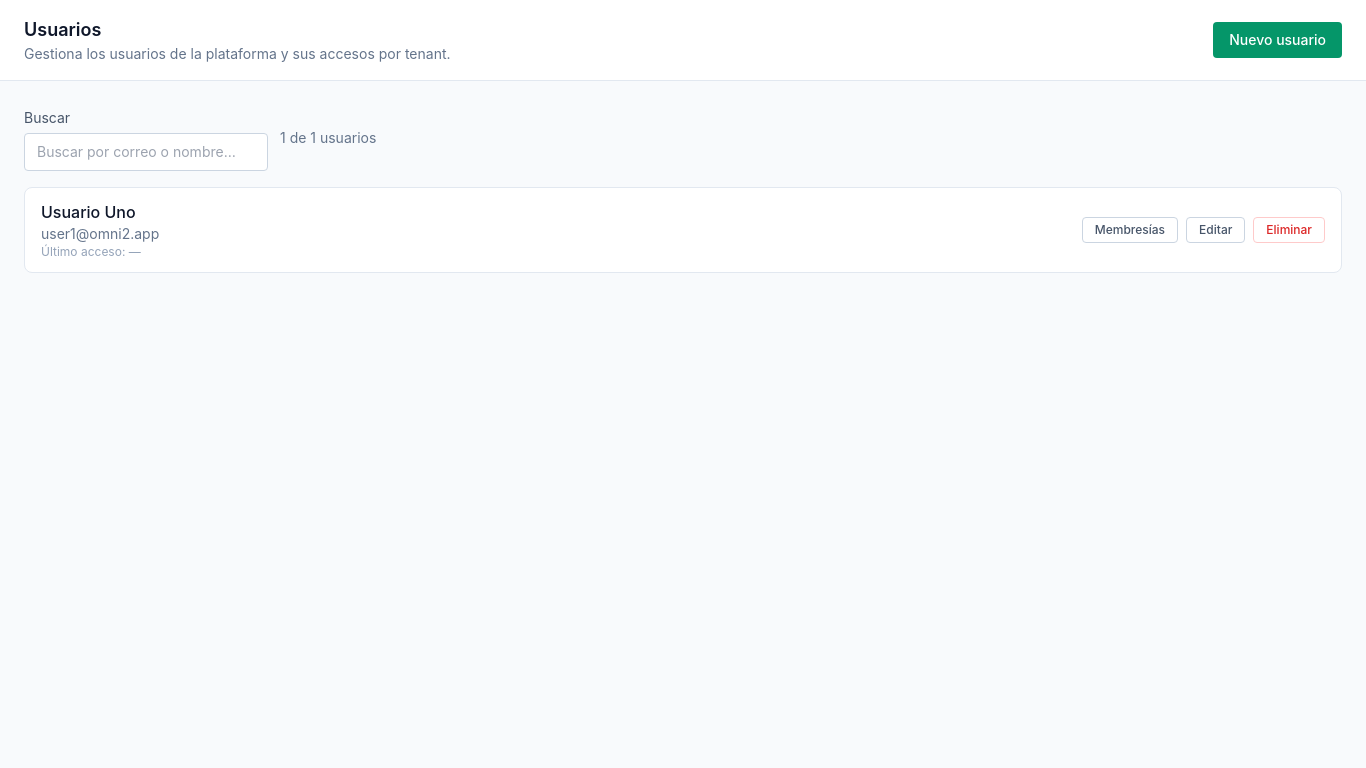
Test case: UsersSection › edita un usuario existente precargando el formulario
This screenshot has width=1366, height=768.
Check: the text "Usuario Uno" is shown, box [41,200,136,224]
Click the button "Editar" at (1216,230), box [1186,217,1245,243]
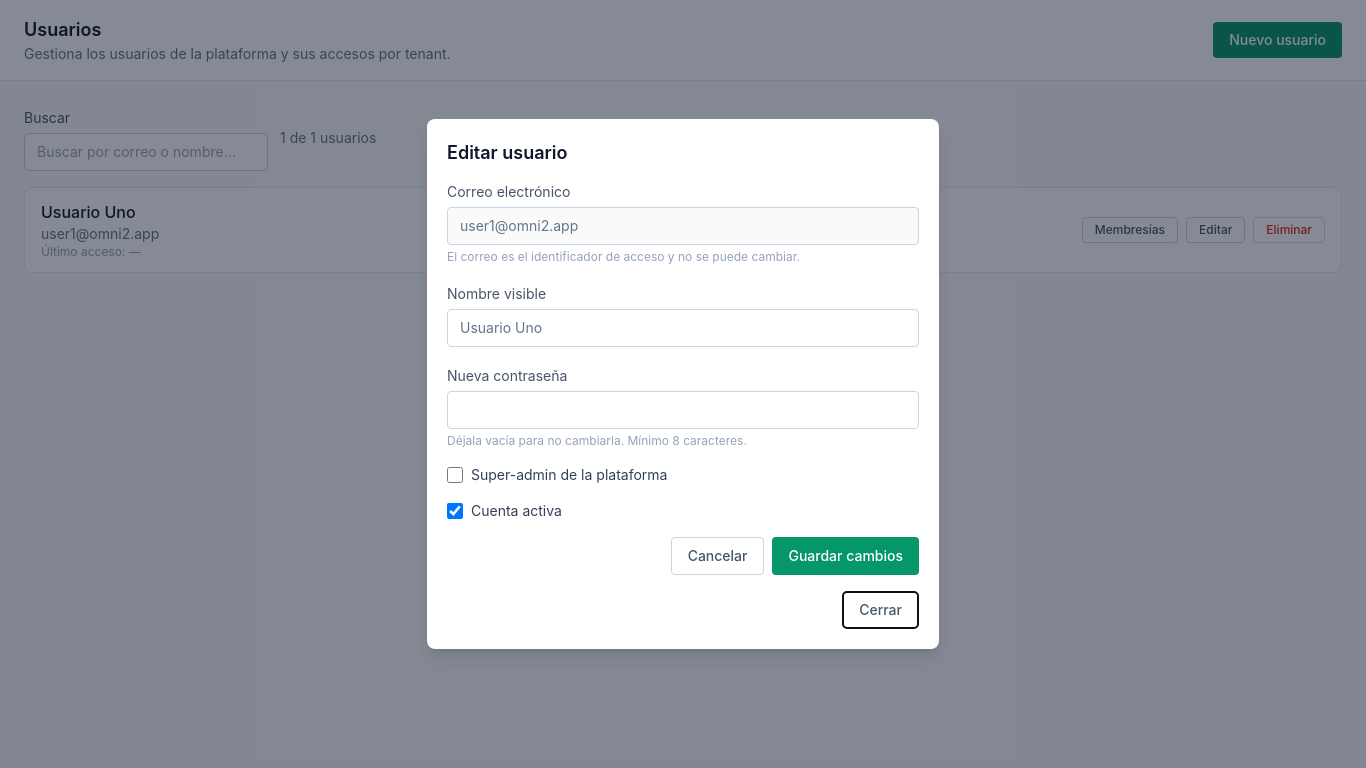
Check: the heading "Editar usuario" is shown, box [447,142,568,163]
Check: the field labelled "Correo electrónico" is disabled, box [447,207,919,245]
Replace the text in the field labelled "Nombre visible" with "Renombrado" at (683,328), box [447,309,919,347]
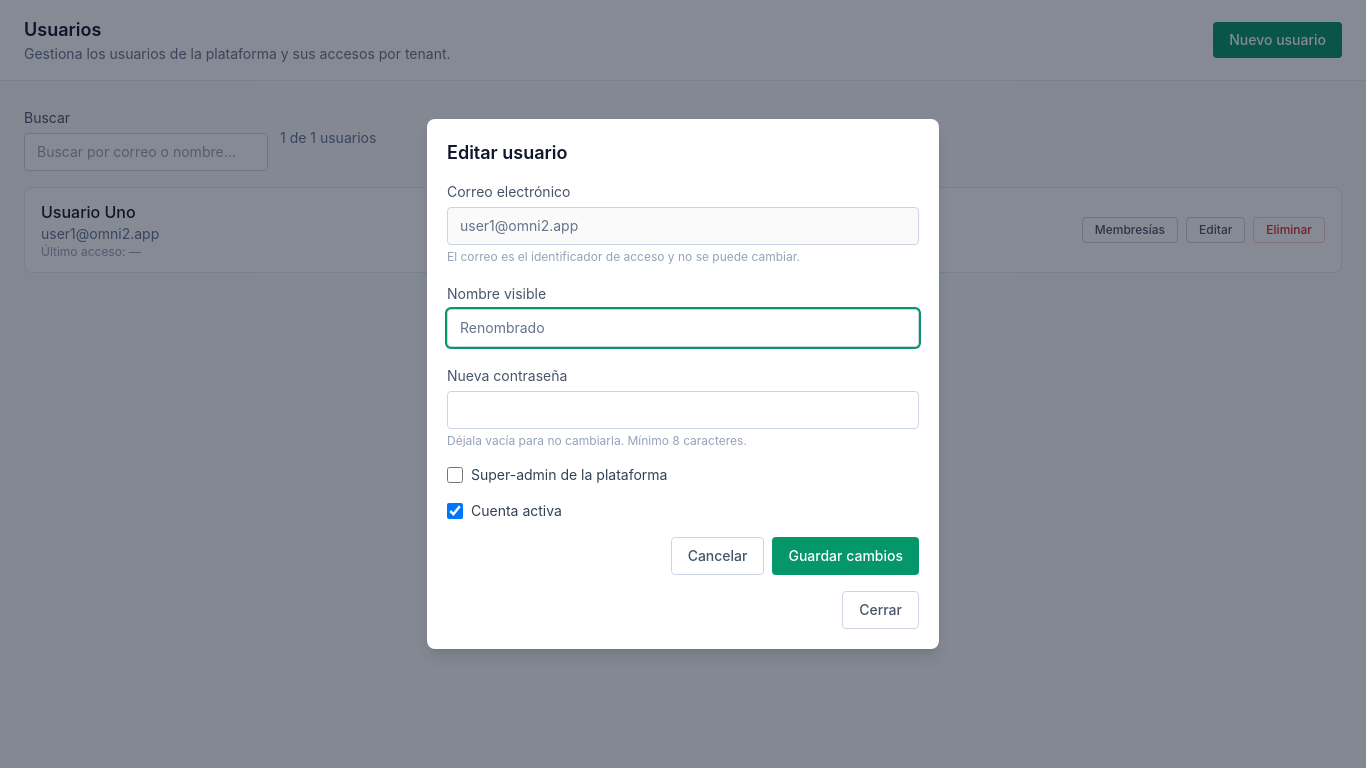
Click the checkbox labelled "Super-admin de la plataforma" at (455,475), box [447,467,463,483]
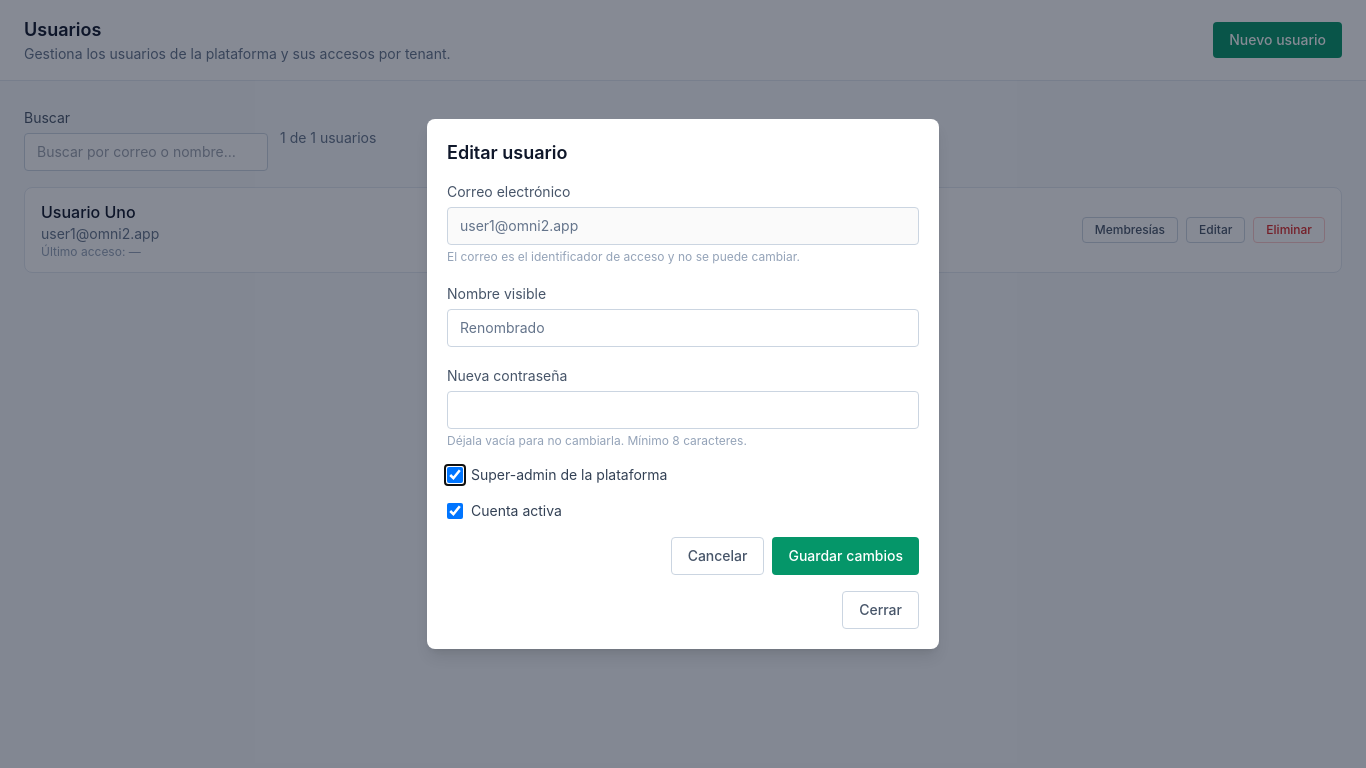
Click the button "Guardar cambios" at (846,556), box [772,537,919,575]
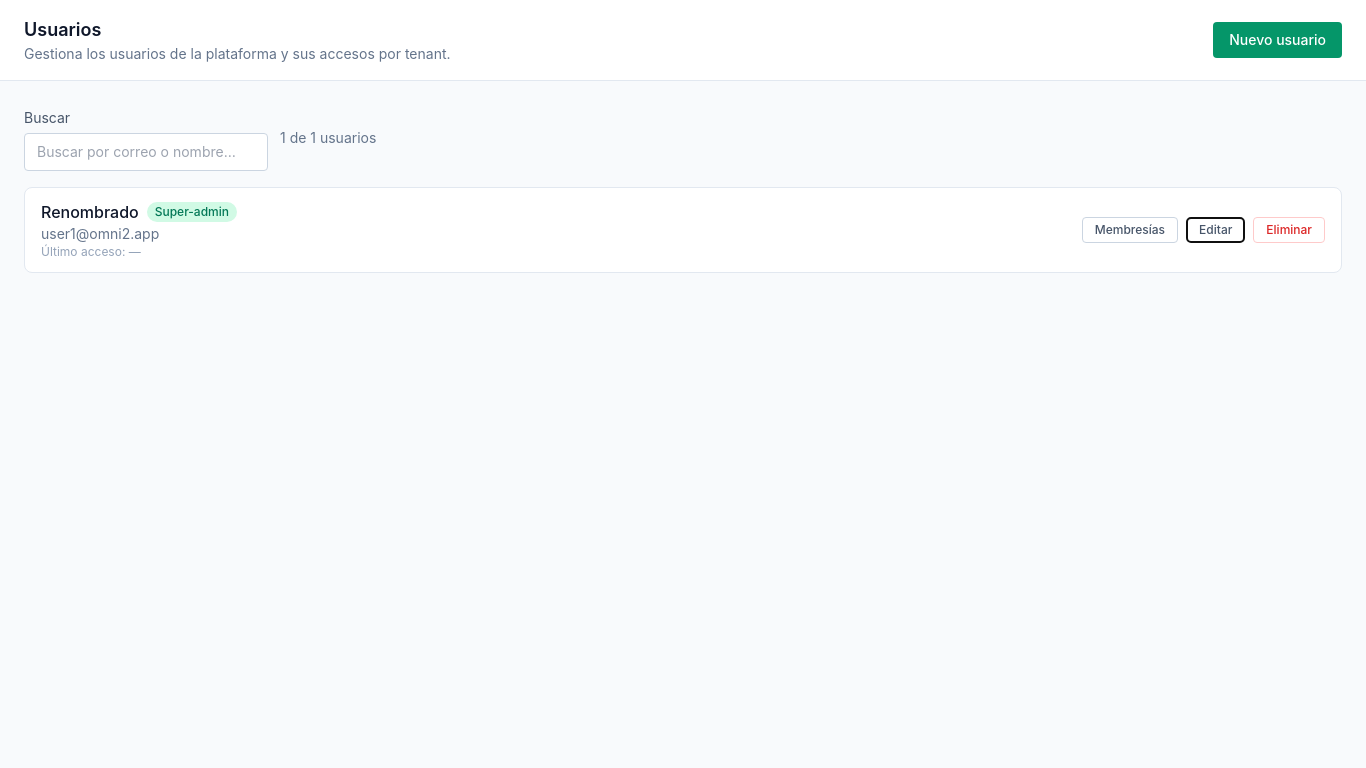
Check: the text "Renombrado" is shown, box [41,200,139,224]
